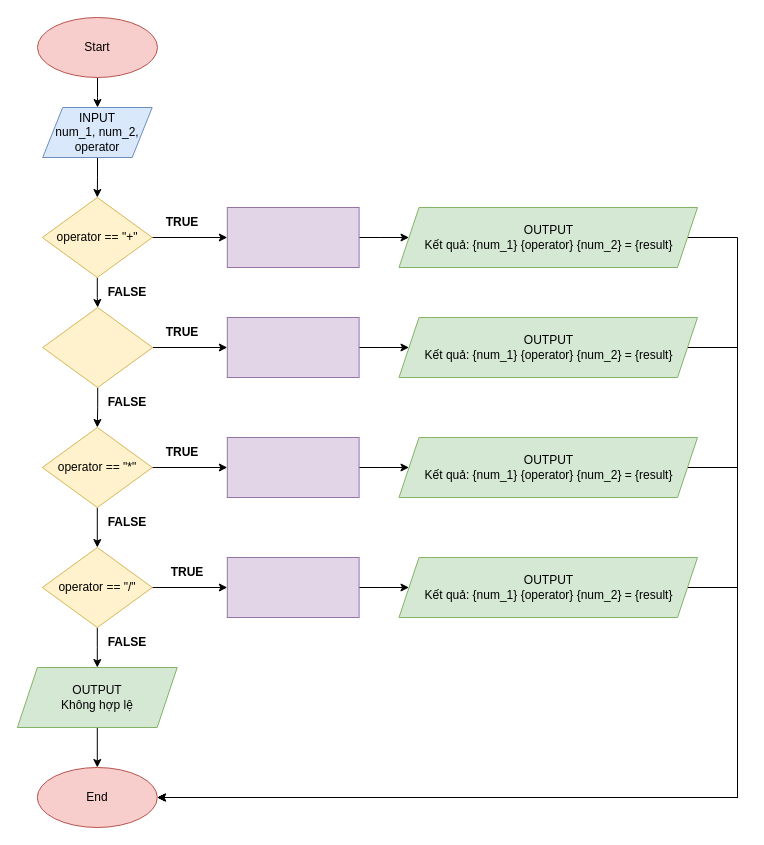
The diagram is 764 pixels wide and 845 high, and some of its shapes have lost their labels. The shapes that lost their labels are listed below. From the top down, each one's centre as x and y in pixels, then its label:
point (292, 237): result = num_1 + num_2
point (97, 347): operator == "-"
point (292, 347): result = num_1 - num_2
point (292, 467): result = num_1 * num_2
point (292, 587): result = num_1 / num_2
